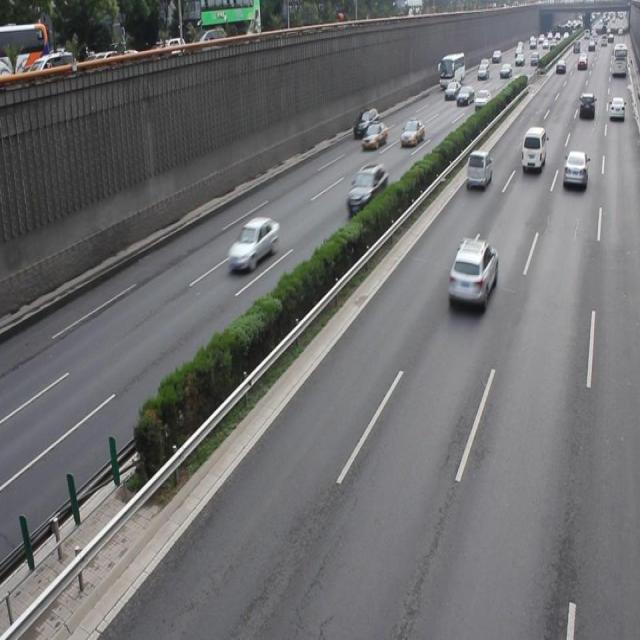car: (446, 237, 496, 309), (227, 215, 279, 270), (345, 163, 387, 215), (464, 148, 490, 187), (562, 151, 586, 187)
truck: (520, 127, 545, 172)
